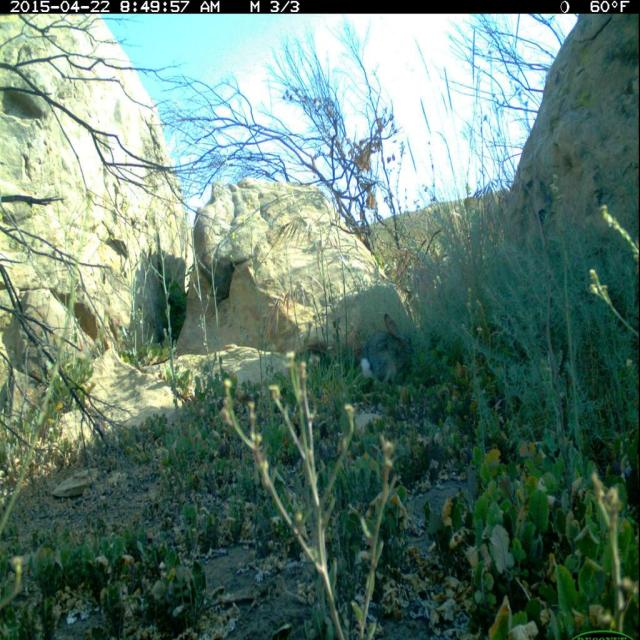rabbit: (357, 310, 428, 395)
